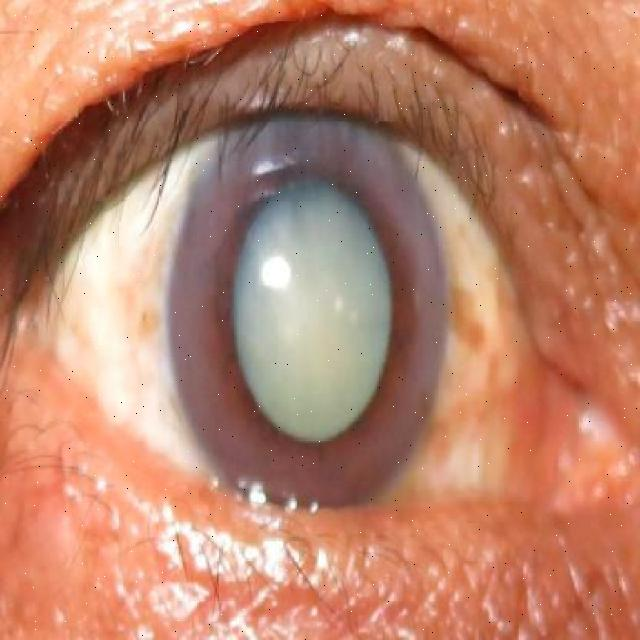Cataract: (162, 104, 448, 516)
